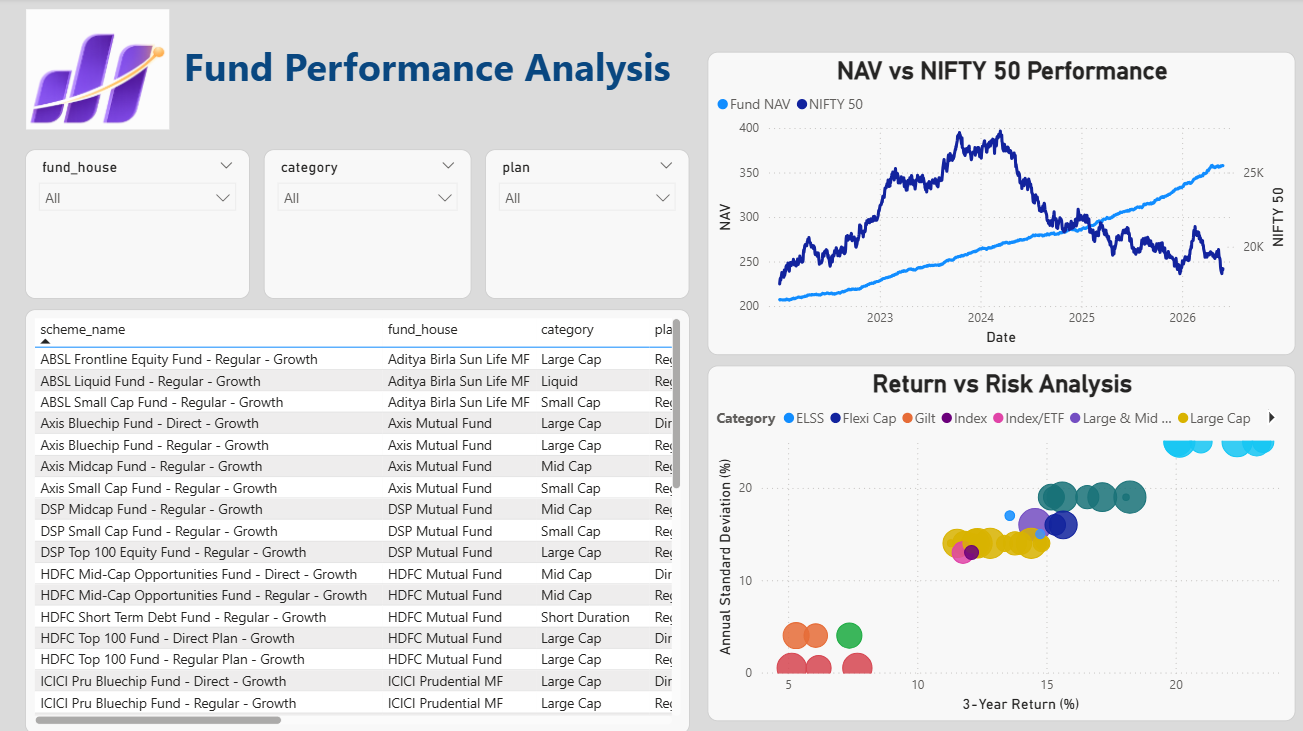

Layout of this report page (visuals, bound fields, positions):
{"tool":"powerbi","page":{"name":"Page 2","canvas":[1280,720],"ordinal":1},"visuals":[{"type":"slicer","fields":{"Values":["07_scheme_performance.fund_house"]},"box":[24.1,147.6,219.9,146.1],"z":0},{"type":"slicer","fields":{"Values":["07_scheme_performance.category"]},"box":[257.6,147.6,203.3,146.1],"z":1000},{"type":"slicer","fields":{"Values":["07_scheme_performance.plan"]},"box":[474.5,147.6,200.3,146.1],"z":2000},{"type":"scatterChart","title":"Return vs Risk Analysis","fields":{"X":["07_scheme_performance.return_3yr_pct"],"Y":["07_scheme_performance.std_dev_ann_pct"],"Size":["Sum(07_scheme_performance.aum_crore)"],"Series":["07_scheme_performance.category"]},"box":[691.8,359.9,575.2,348.1],"z":3000},{"type":"tableEx","fields":{"Values":["07_scheme_performance.scheme_name","07_scheme_performance.fund_house","07_scheme_performance.category","07_scheme_performance.plan","07_scheme_performance.aum_crore","07_scheme_performance.return_1yr_pct","07_scheme_performance.return_3yr_pct","07_scheme_performance.return_5yr_pct","07_scheme_performance.benchmark_3yr_pct","07_scheme_performance.alpha","07_scheme_performance.beta","07_scheme_performance.sharpe_ratio"]},"box":[24.1,304.3,650.7,415.7],"z":4000},{"type":"lineChart","title":"NAV vs NIFTY 50 Performance","fields":{"Category":["Calendar.Date"],"Y":["Avg(02_nav_history.nav)"],"Y2":["Sum(10_benchmark_indices.close_value)"]},"box":[691.8,53.1,575.2,296.5],"z":5000},{"type":"textbox","box":[174.7,36.1,500.1,66.3],"z":6000},{"type":"image","box":[0,10.5,191.3,117.5],"z":6001}]}

Visuals, with their boxes in screenshot pixels (x1, y1, x2, y2), scaled from the page's 1280x720 canvas onto the 1303x731 screenshot:
slicer - 07_scheme_performance.fund_house: Rect(25, 150, 248, 298)
slicer - 07_scheme_performance.category: Rect(262, 150, 469, 298)
slicer - 07_scheme_performance.plan: Rect(483, 150, 687, 298)
"Return vs Risk Analysis" scatterChart: Rect(704, 365, 1290, 719)
tableEx - 07_scheme_performance.scheme_name x 07_scheme_performance.fund_house: Rect(25, 309, 687, 730)
"NAV vs NIFTY 50 Performance" lineChart: Rect(704, 54, 1290, 355)
textbox: Rect(178, 37, 687, 104)
image: Rect(0, 11, 195, 130)
